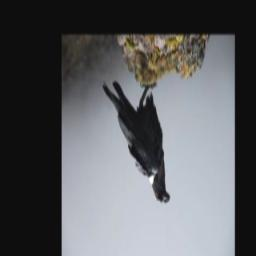Crow: (101, 75, 170, 210)
